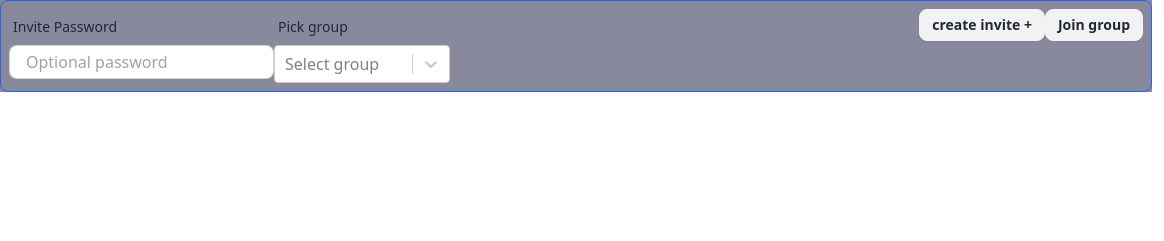
Test: InviteTool › should display list of groups to invite
Press the mouse on the text "Select group" at (332, 64), box [285, 53, 379, 75]
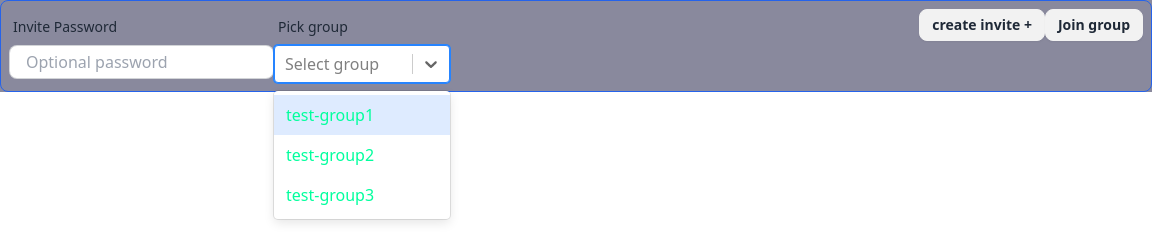
Check: the option "test-group1" is shown, box [274, 95, 450, 135]
Check: the option "test-group2" is shown, box [286, 144, 374, 166]
Check: the option "test-group3" is shown, box [286, 184, 374, 206]
